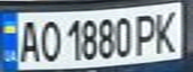0: (112, 12, 136, 59)
1: (63, 16, 81, 61)
8: (78, 16, 100, 61), (97, 15, 118, 60)
A: (15, 16, 42, 64)
K: (151, 7, 181, 55)
O: (36, 17, 63, 63)
P: (133, 10, 160, 56)
